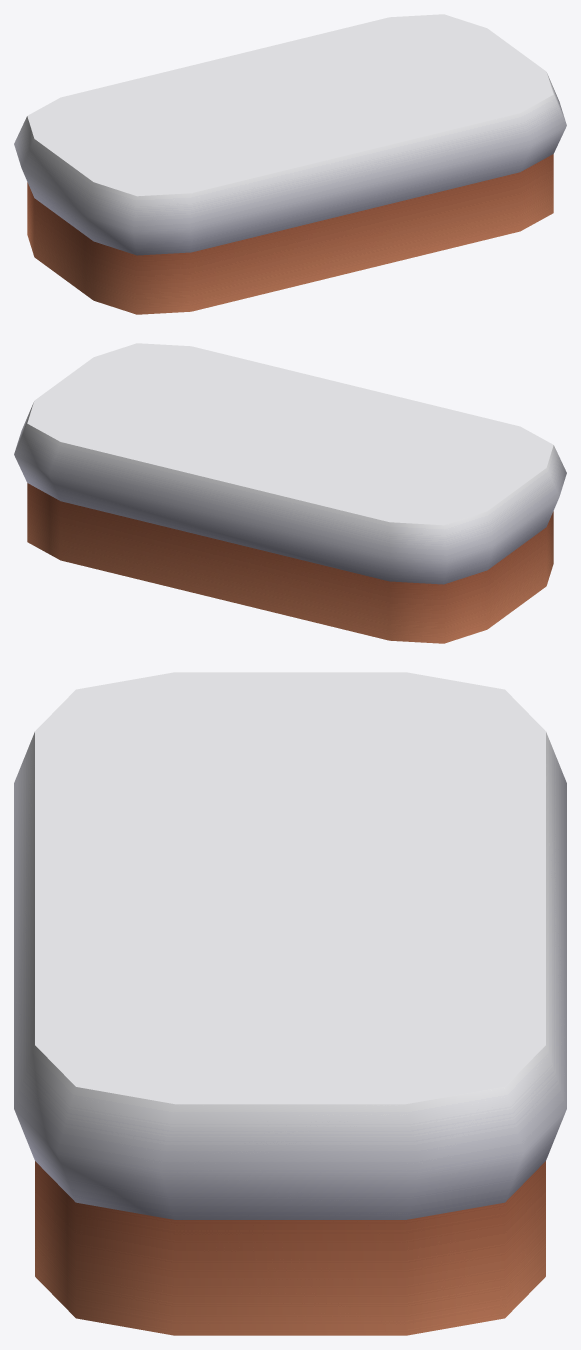
Rendered from block-snow-low-long.glb.
The picture shows the model from 3 angles, top to bottom: view 1: azimuth 30°, elevation 25°; view 2: azimuth 150°, elevation 25°; view 3: azimuth 270°, elevation 25°; orthographic projection. The views are drawn at different scales.
Visible parts, largest first — view 1: block-snow-low-long; view 2: block-snow-low-long; view 3: block-snow-low-long.
Boxes of the visible parts, x1=… form: block-snow-low-long: x1=14, y1=14, x2=566, y2=314; block-snow-low-long: x1=14, y1=343, x2=566, y2=643; block-snow-low-long: x1=14, y1=672, x2=566, y2=1335.
Size of the model in its own units: 2.08 by 0.5 by 1.08.
1 material, 1 textured.
